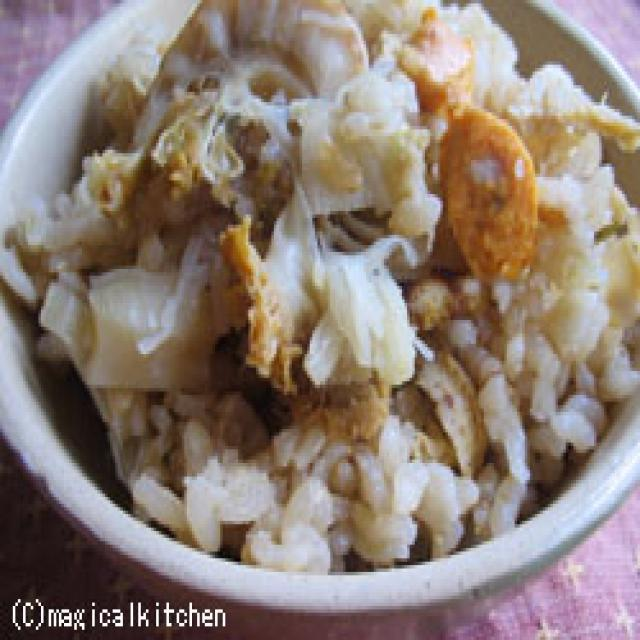米饭主食: (15, 0, 640, 569)
